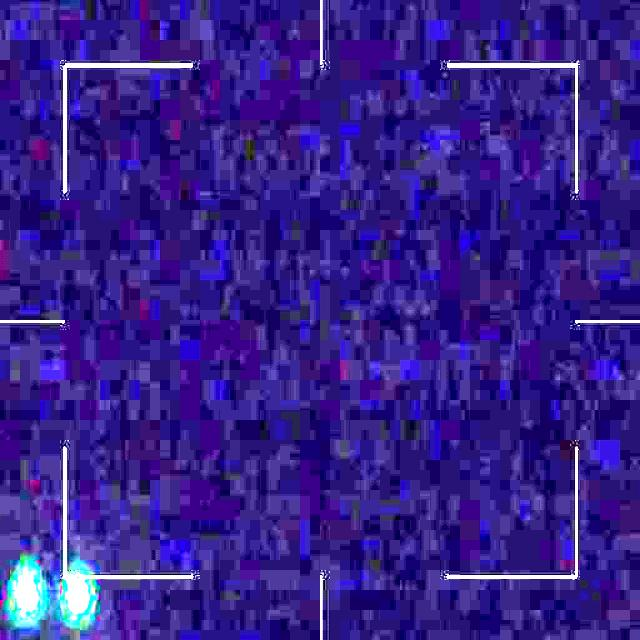bird: (12, 566, 92, 618)
